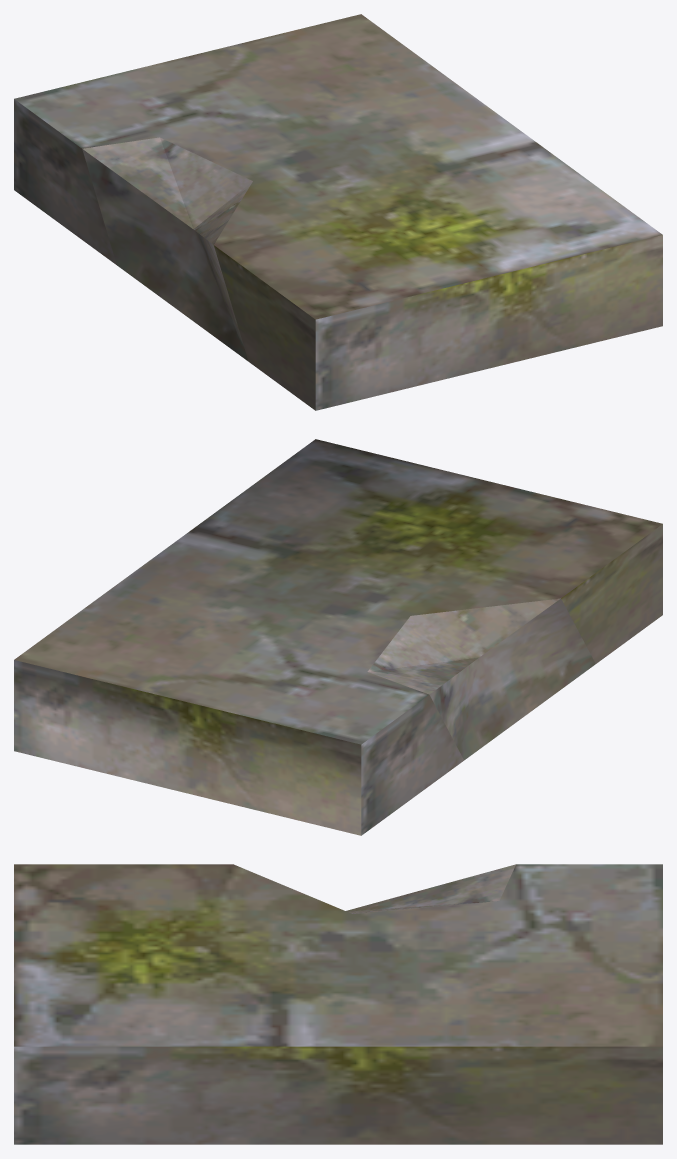
Rendered from 4009_Item_dimian_4.FBX.
3 views of the same model, one above another, from view 1: azimuth 30°, elevation 25°; view 2: azimuth 150°, elevation 25°; view 3: azimuth 270°, elevation 25° (orthographic). The views are drawn at different scales.
Visible parts, largest first — view 1: 4009_Item_dimian_4; view 2: 4009_Item_dimian_4; view 3: 4009_Item_dimian_4.
Boxes of the visible parts, box(x1,y1,x2,y2) form: 4009_Item_dimian_4: box(14, 14, 662, 410); 4009_Item_dimian_4: box(14, 439, 662, 835); 4009_Item_dimian_4: box(14, 864, 662, 1144).
Size of the model in its own units: 75.71 by 19.01 by 114.
